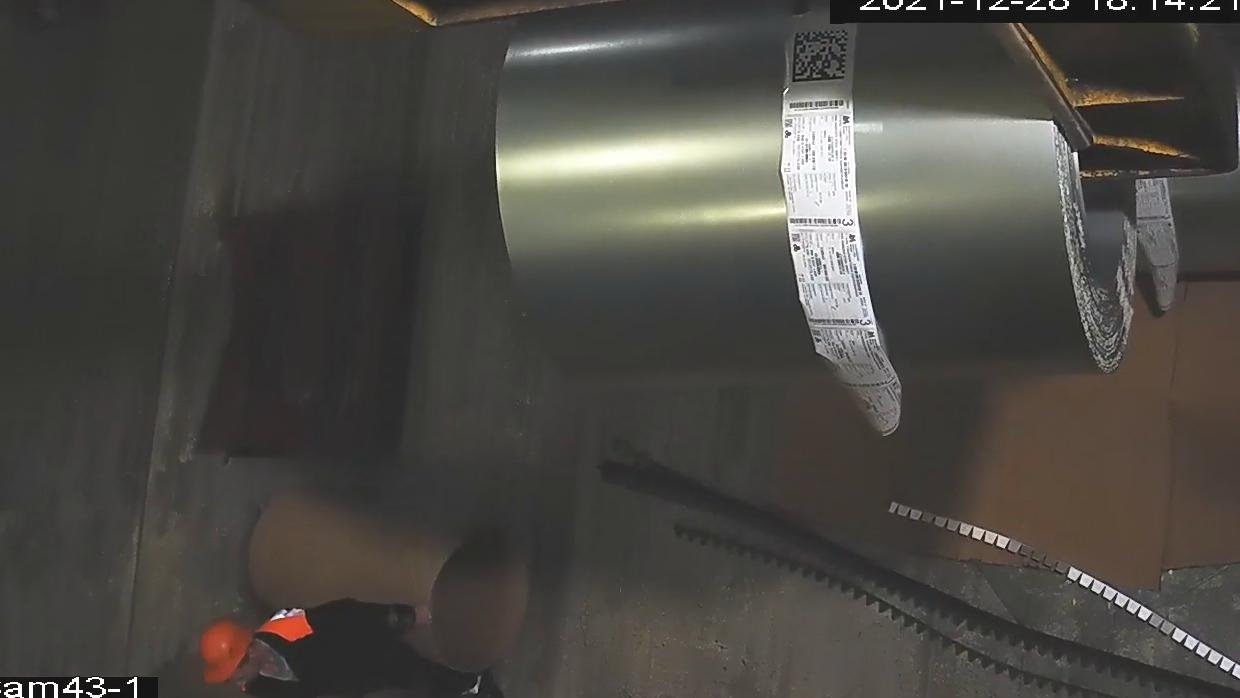data matrix: (789, 26, 855, 88)
